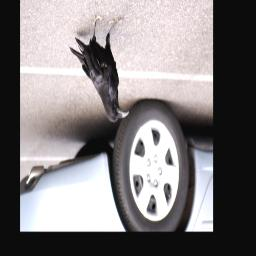Crow: (68, 15, 129, 126)
